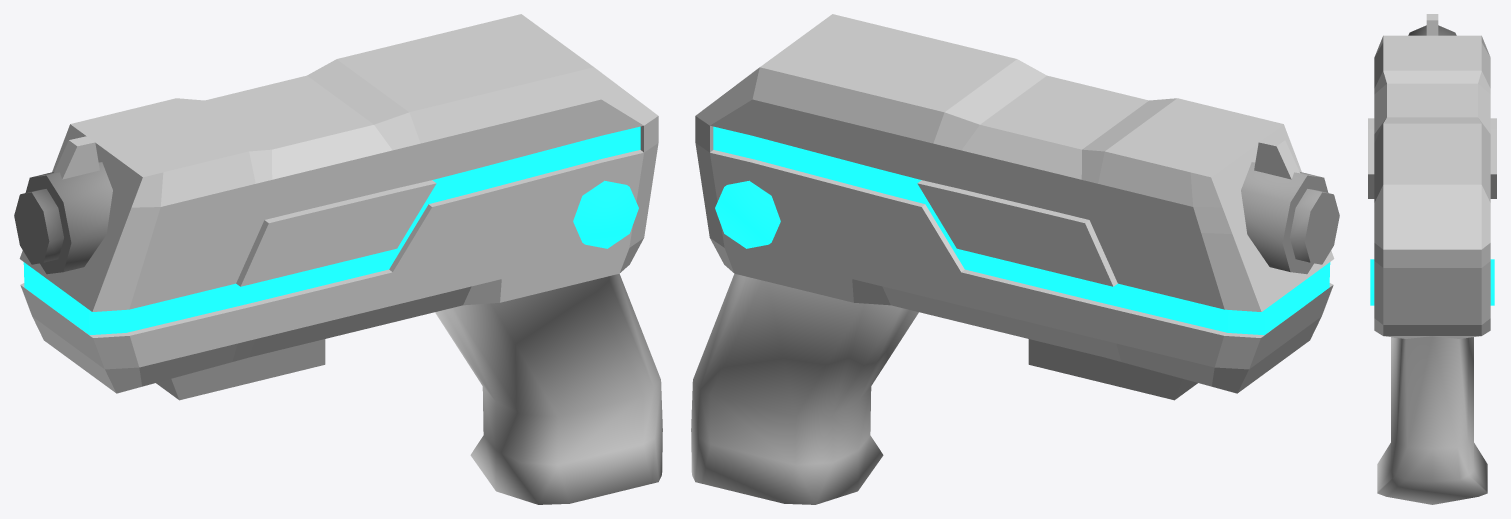
Rendered from pistol.fbx.
3 renders of one model, left to right at view 1: azimuth 30°, elevation 25°; view 2: azimuth 150°, elevation 25°; view 3: azimuth 270°, elevation 25°, orthographic. The views are drawn at different scales.
Parts seen in each view (by area): view 1: Pistol, Clip; view 2: Pistol, Clip; view 3: Pistol.
Boxes of the visible parts, x1,y1,x2,y2 form: Pistol: (14, 14, 662, 504); Clip: (156, 339, 325, 400); Pistol: (691, 14, 1339, 504); Clip: (1028, 339, 1197, 400); Pistol: (1368, 14, 1496, 504).
Size of the model in its own units: 25.94 by 18.17 by 6.93.
